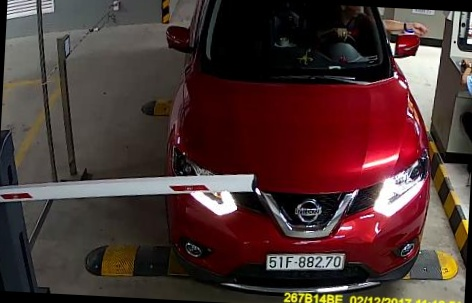plate: (264, 245, 350, 275)
